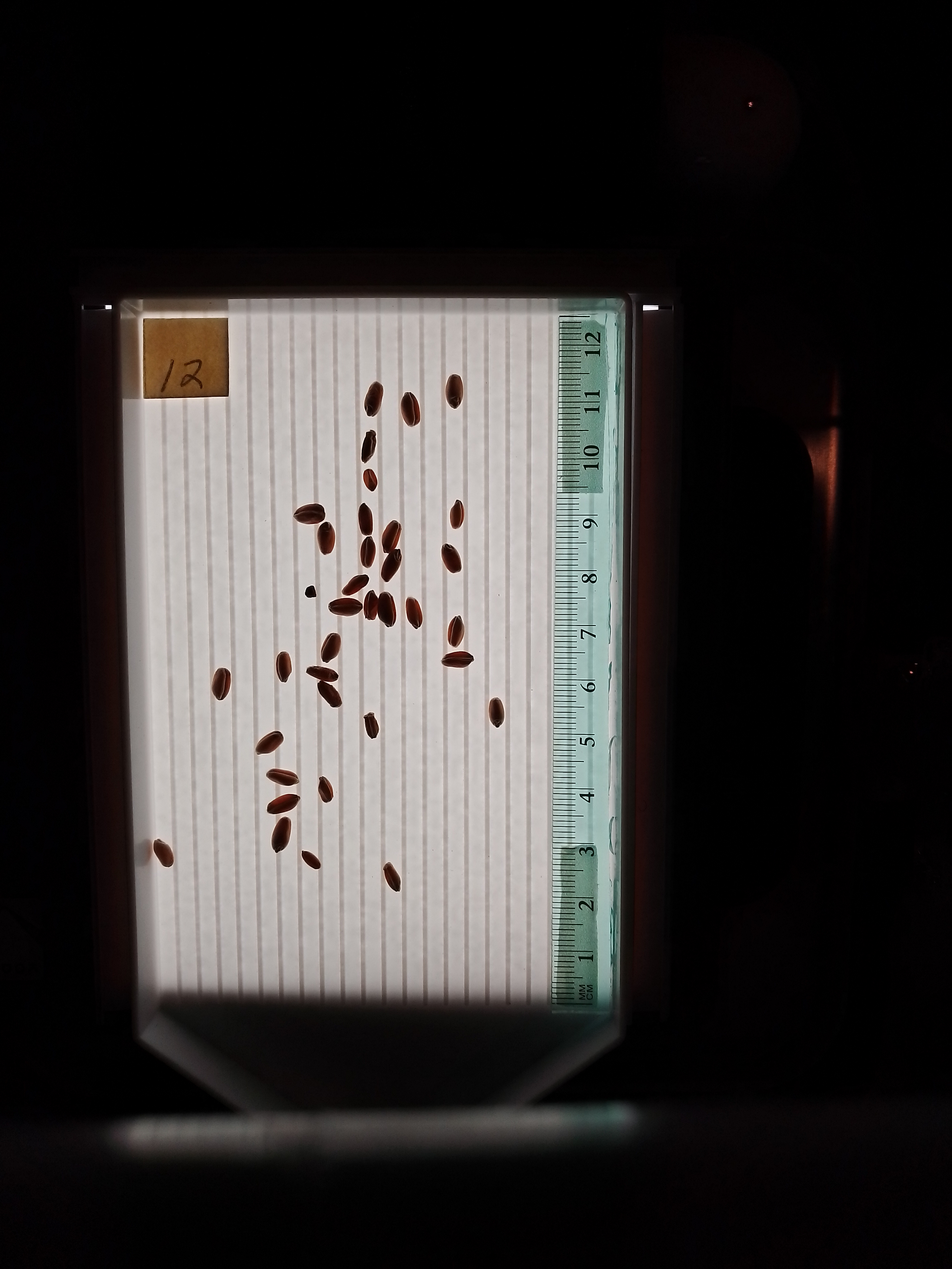seed mask: (364, 382, 384, 416), (381, 549, 402, 581), (272, 817, 291, 852), (294, 504, 325, 525), (401, 393, 420, 426), (268, 794, 299, 814), (255, 732, 283, 754), (329, 597, 361, 616), (446, 375, 464, 408), (212, 669, 231, 700), (267, 768, 298, 787), (379, 593, 396, 627), (317, 523, 335, 555), (318, 682, 341, 707), (382, 521, 401, 551), (442, 544, 461, 573), (153, 841, 174, 867), (321, 634, 341, 661), (406, 597, 423, 628), (275, 652, 292, 682), (443, 651, 473, 668), (447, 616, 464, 646), (343, 575, 368, 595), (307, 666, 338, 682), (488, 698, 505, 727), (383, 864, 401, 891), (358, 504, 373, 536), (361, 431, 377, 461), (360, 536, 375, 567), (364, 713, 380, 738), (450, 501, 464, 529), (364, 593, 378, 620), (319, 777, 334, 802), (302, 851, 321, 868), (363, 469, 378, 490)
